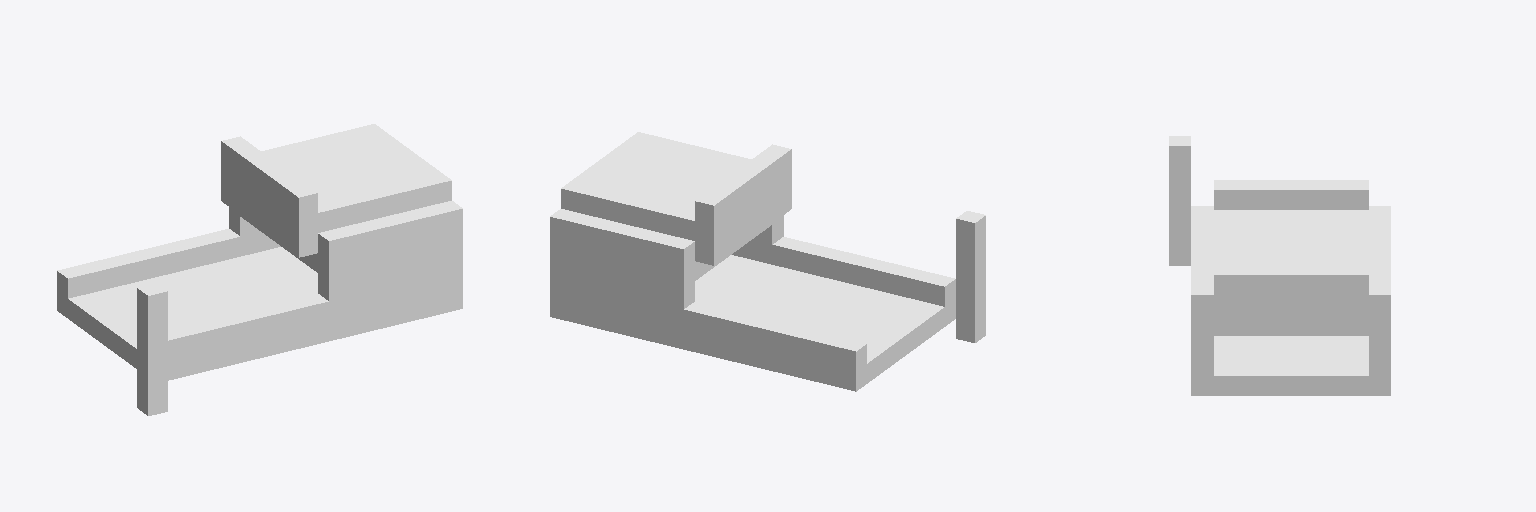
The model's file is Metal.obj.
3 views of the same model, side by side, from view 1: azimuth 30°, elevation 25°; view 2: azimuth 150°, elevation 25°; view 3: azimuth 270°, elevation 25° (orthographic).
Parts seen in each view (by area): view 1: object 1; view 2: object 1; view 3: object 1.
Part boxes in pixels (left/top/right/bottom): object 1: left=57, top=124, right=462, bottom=415; object 1: left=550, top=132, right=985, bottom=391; object 1: left=1169, top=136, right=1390, bottom=395.
Size of the model in its own units: 1.7 by 0.8 by 1.